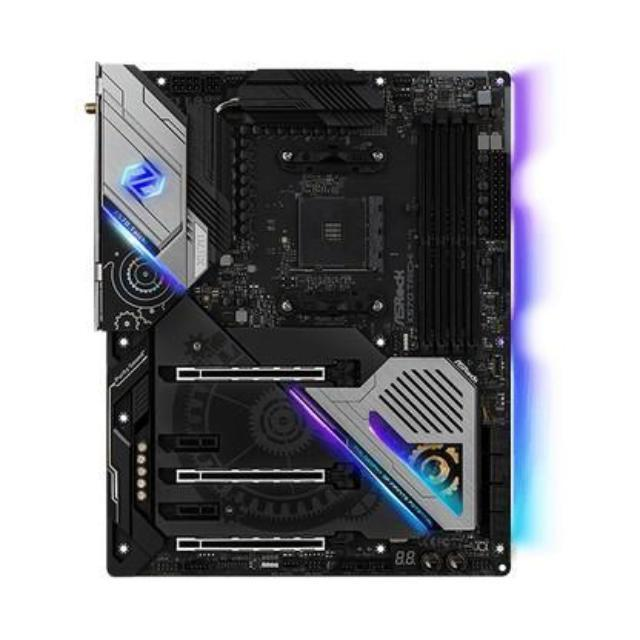Mainboard: (82, 50, 520, 579)
